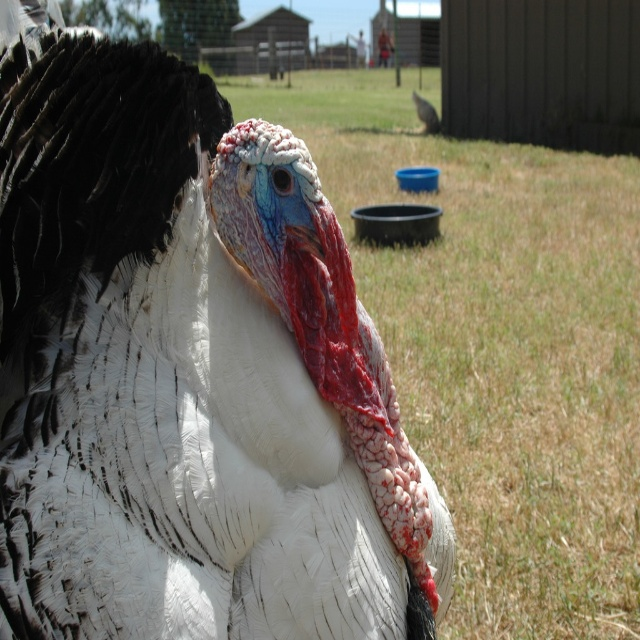Turkey: (0, 22, 458, 640)
